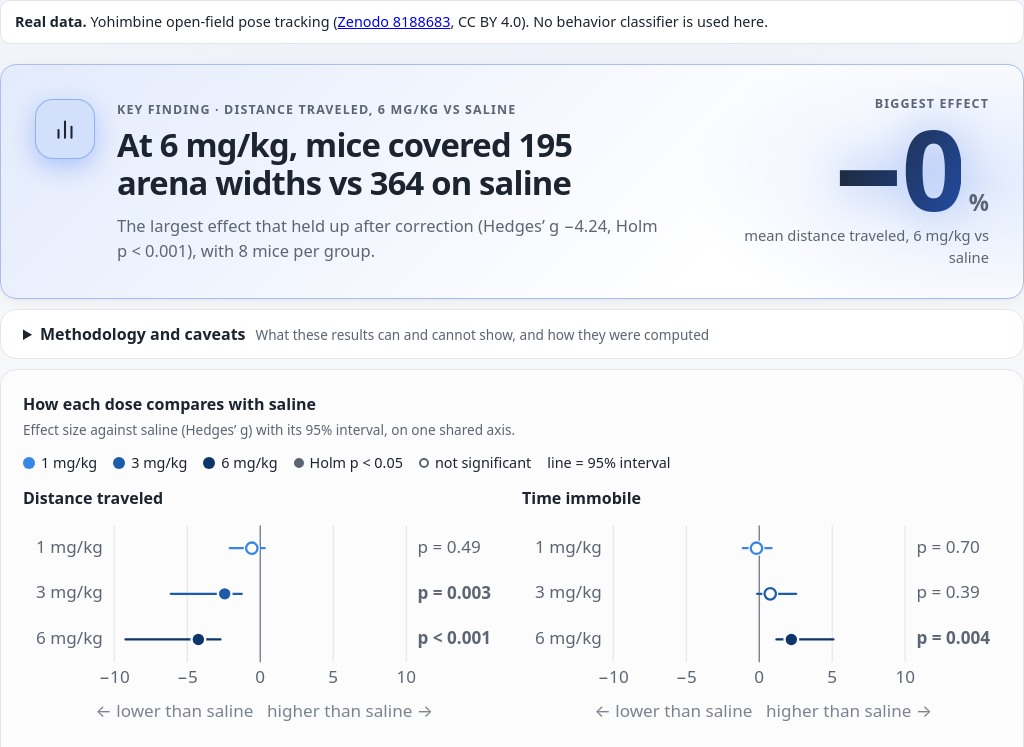
Test: PharmacologyView › keeps the caveats collapsed by default, one click away
The image size is (1024, 747).
Expected: the text "small groups." is not shown
Click the text "Methodology and caveats".
click(143, 334)  # box [40, 323, 246, 345]
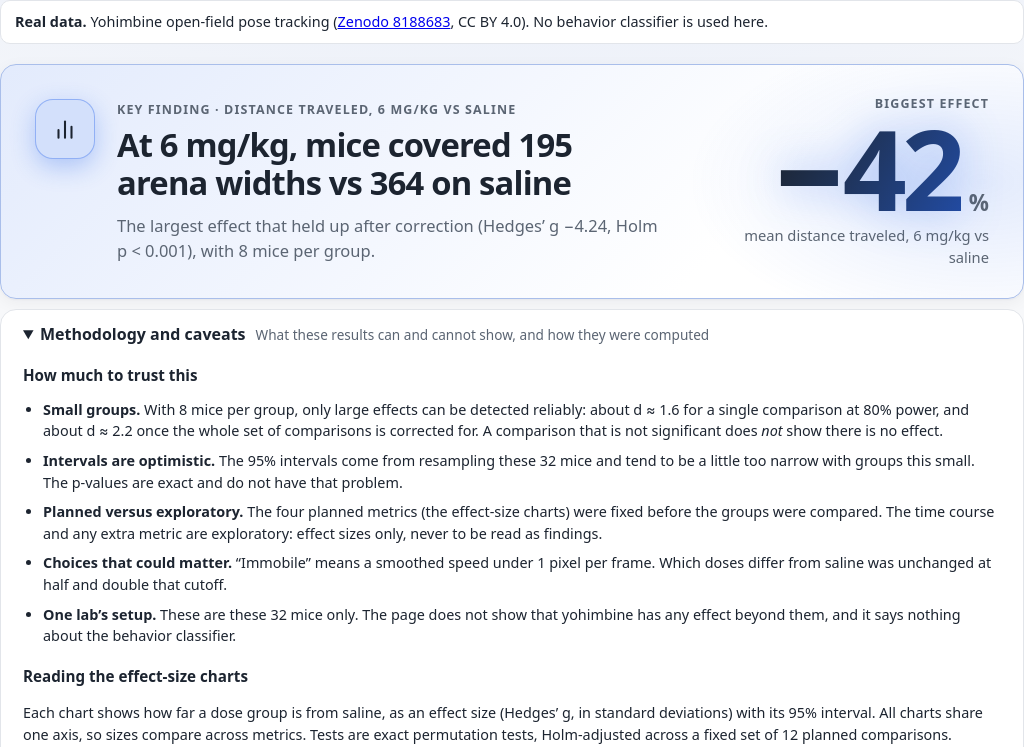
Result: the text "Small groups." is shown at [43, 400, 140, 419]
